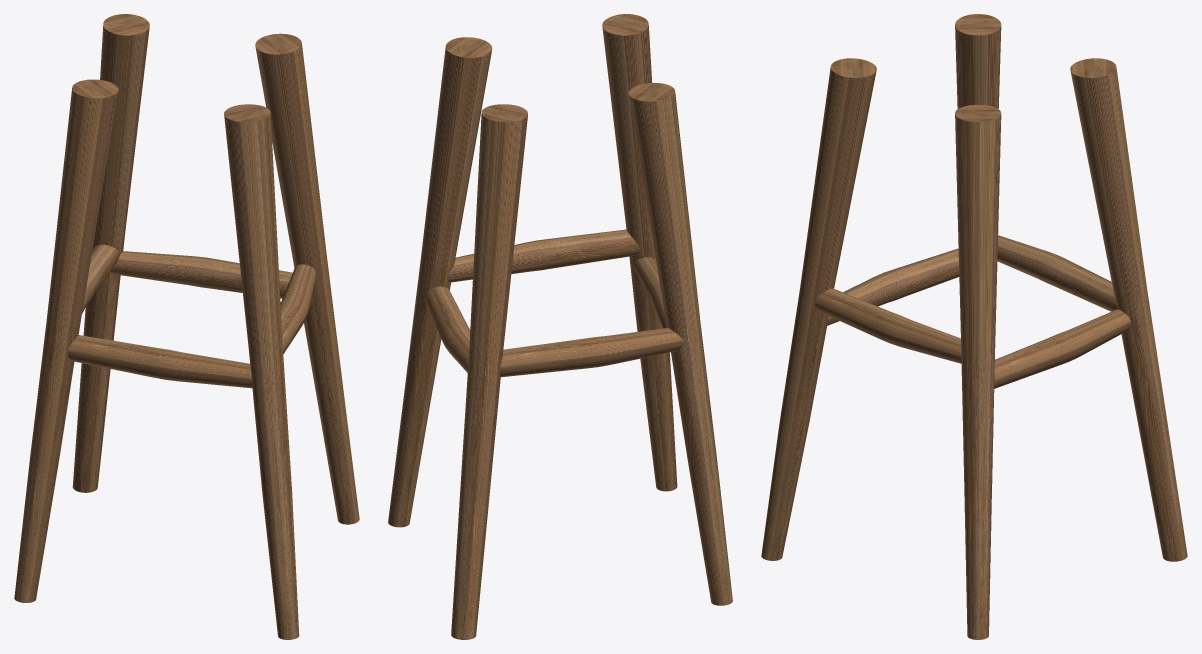
The model's file is FootTableWood.fbx.
The picture shows the model from 3 angles, left to right: view 1: azimuth 30°, elevation 25°; view 2: azimuth 150°, elevation 25°; view 3: azimuth 270°, elevation 25°; orthographic projection.
Parts seen in each view (by area): view 1: FootTable; view 2: FootTable; view 3: FootTable.
Part boxes in pixels (left/top/right/bottom): FootTable: left=14, top=14, right=359, bottom=639; FootTable: left=388, top=14, right=732, bottom=639; FootTable: left=761, top=14, right=1187, bottom=639.
Bounding box in the file's own units: 128 × 176 × 139.
